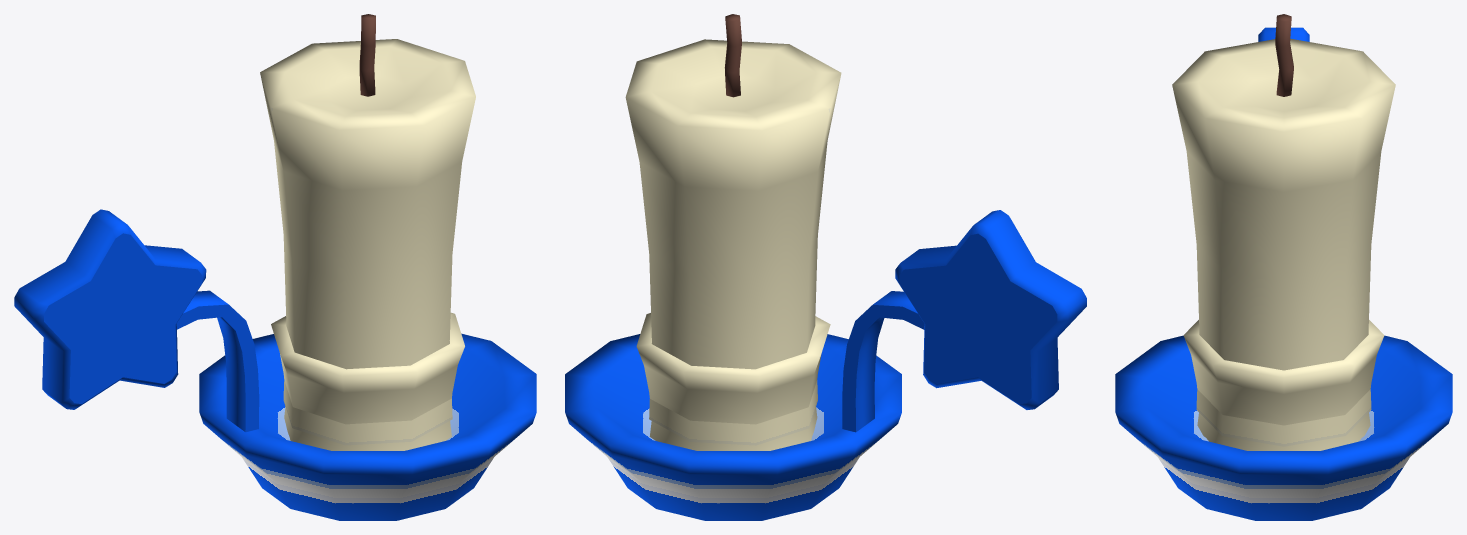
The picture shows the model from 3 angles, left to right: view 1: azimuth 30°, elevation 25°; view 2: azimuth 150°, elevation 25°; view 3: azimuth 270°, elevation 25°; orthographic projection.
Visible parts, largest first — view 1: polygon0_polygon0.002, polygon1_polygon1.001; view 2: polygon0_polygon0.002, polygon1_polygon1.001; view 3: polygon0_polygon0.002, polygon1_polygon1.001.
Part boxes in pixels (left/top/right/bottom): polygon0_polygon0.002: left=14, top=14, right=536, bottom=520; polygon1_polygon1.001: left=271, top=312, right=464, bottom=450; polygon0_polygon0.002: left=565, top=14, right=1086, bottom=520; polygon1_polygon1.001: left=636, top=313, right=830, bottom=450; polygon0_polygon0.002: left=1115, top=14, right=1452, bottom=520; polygon1_polygon1.001: left=1183, top=320, right=1384, bottom=450.
Bounding box in the file's own units: 1 × 0.91 × 0.598.
Materials: 1 (1 with a texture image).
